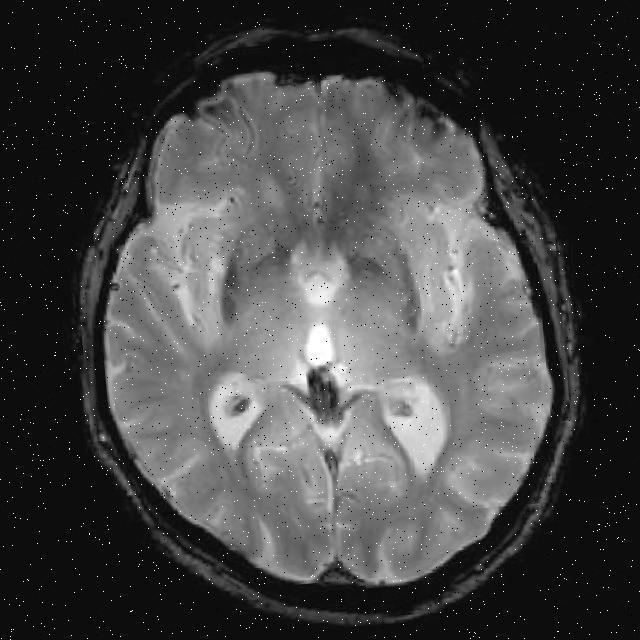EMCI: (185, 210, 263, 335), (344, 238, 434, 325)
